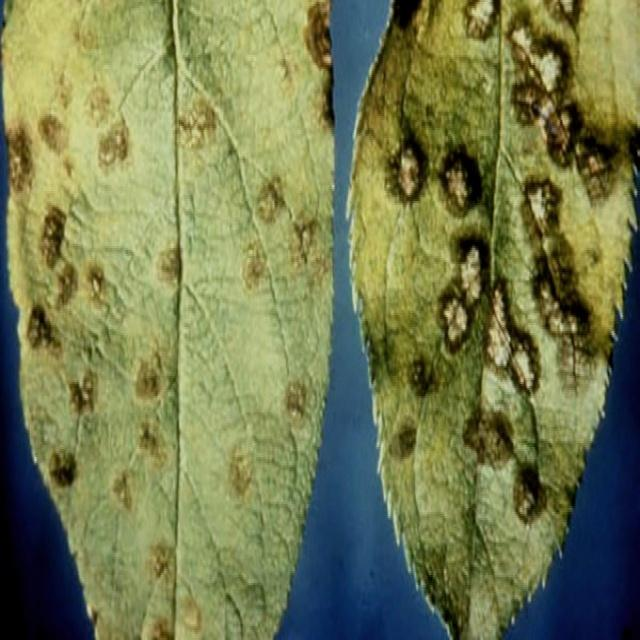leaf_spot: (0, 0, 339, 640), (344, 0, 640, 639)
